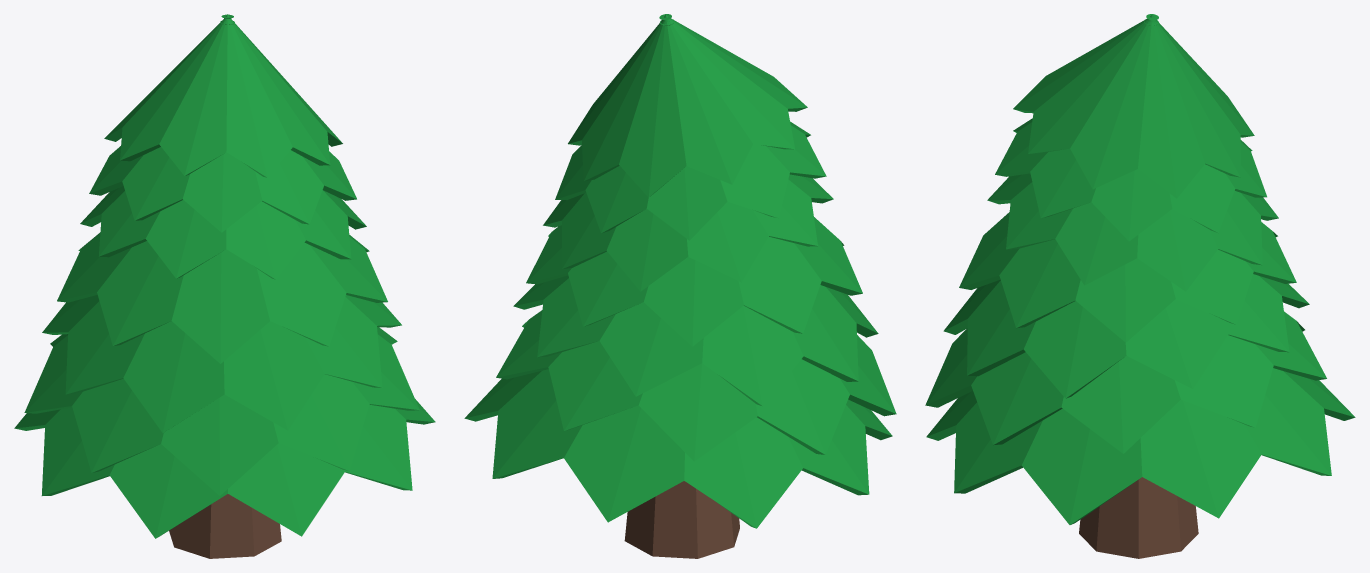
File: tree.fbx
The picture shows the model from 3 angles, left to right: view 1: azimuth 30°, elevation 25°; view 2: azimuth 150°, elevation 25°; view 3: azimuth 270°, elevation 25°; orthographic projection.
Parts seen in each view (by area): view 1: Cylinder.001, Cylinder; view 2: Cylinder.001, Cylinder; view 3: Cylinder.001, Cylinder.
Part boxes in pixels (<box>): Cylinder.001: <box>14,14,435,538</box>; Cylinder: <box>169,494,281,558</box>; Cylinder.001: <box>464,14,896,528</box>; Cylinder: <box>624,481,739,558</box>; Cylinder.001: <box>925,14,1355,524</box>; Cylinder: <box>1079,477,1198,558</box>.
Size of the model in its own units: 74.42 by 101 by 75.48.
